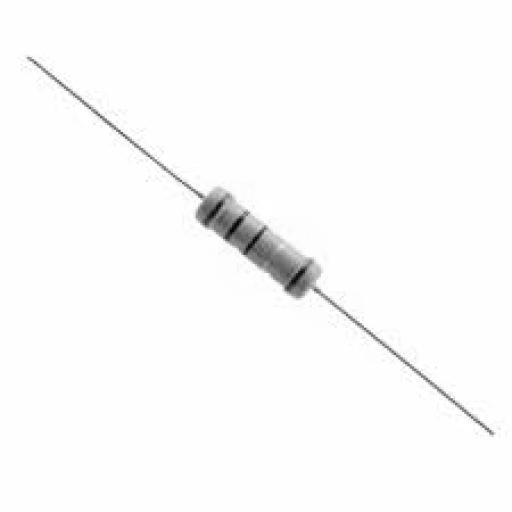RESISTOR: (160, 157, 370, 322)
